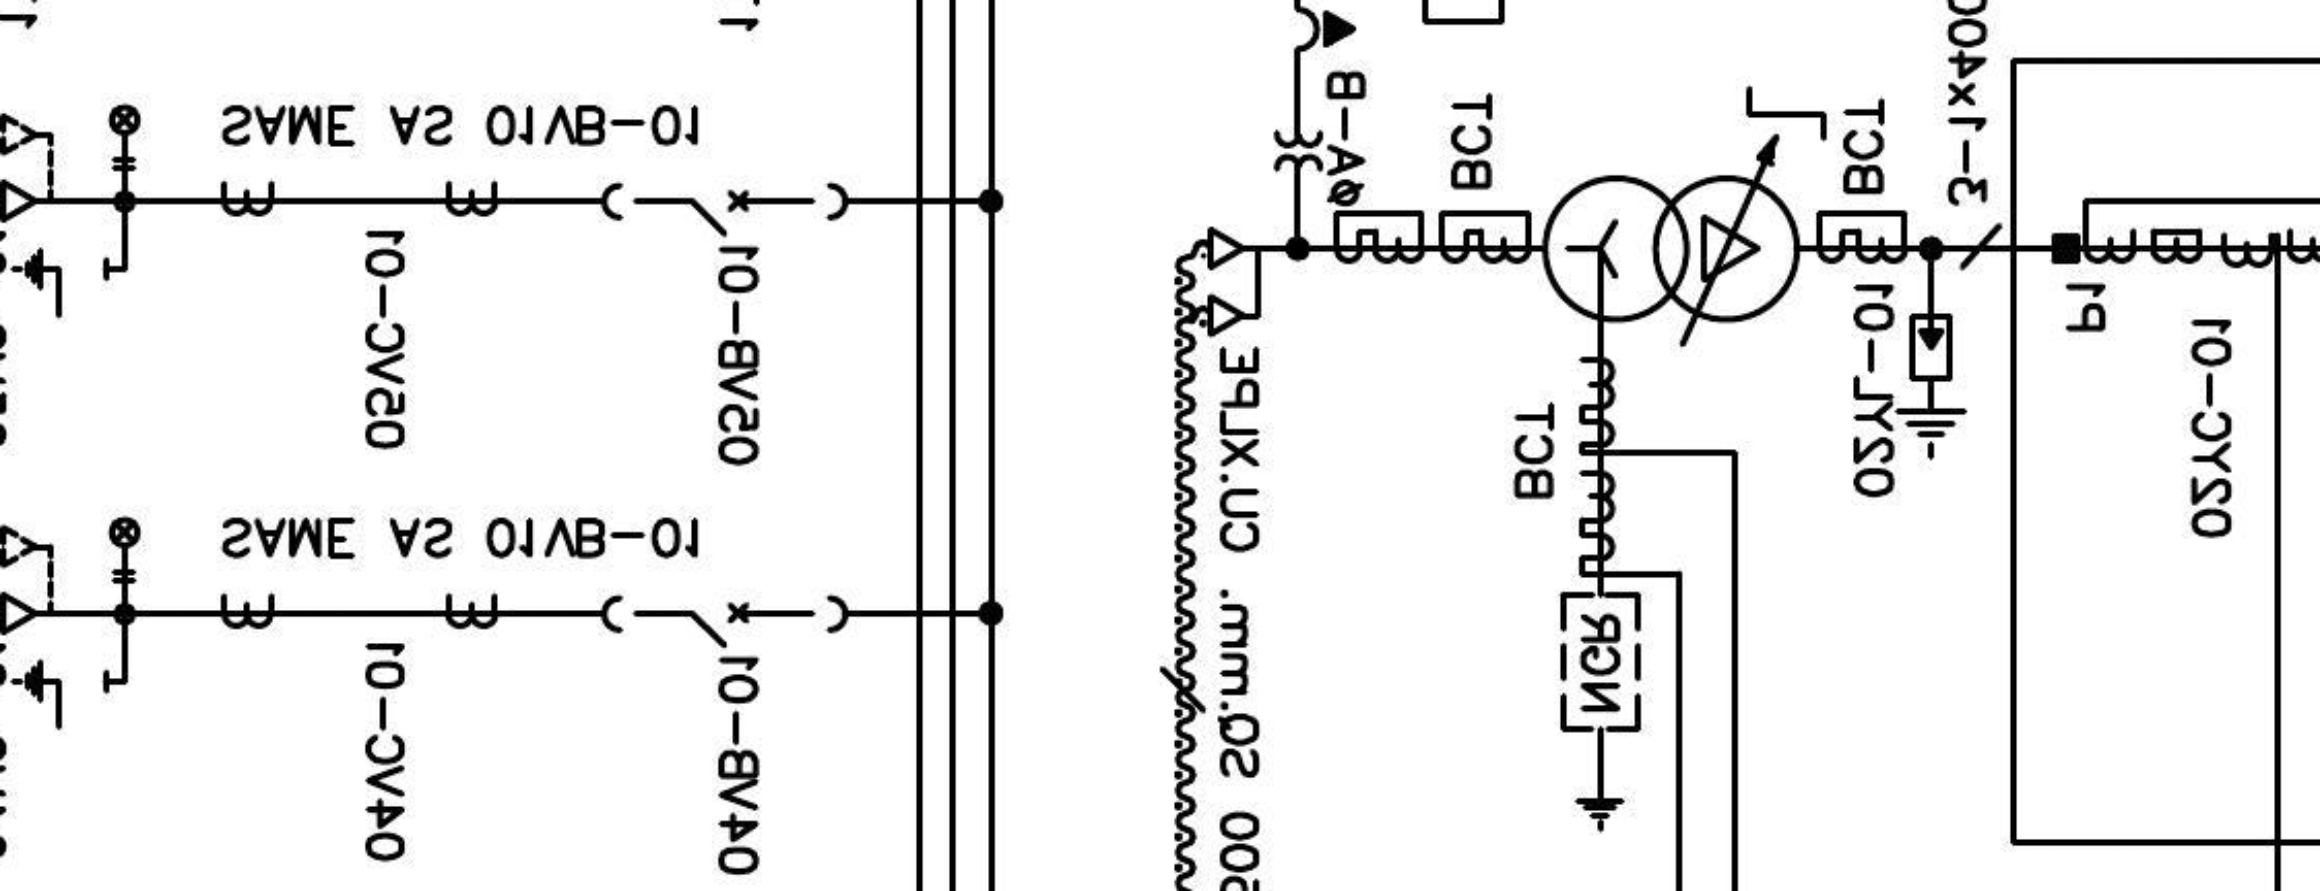11522_tx_dyn1: (1540, 173, 1801, 324)
115_la: (1892, 312, 1969, 463)
22_breaker: (599, 594, 849, 653), (601, 181, 851, 240)
22_gs: (7, 659, 111, 734), (9, 246, 111, 321)
22_ll: (108, 515, 142, 585), (108, 102, 142, 172)
NGR_future: (1558, 591, 1642, 833)
terminator_double: (1207, 226, 1262, 337)
